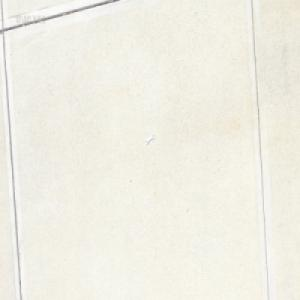Wrench: (145, 135, 153, 145)
